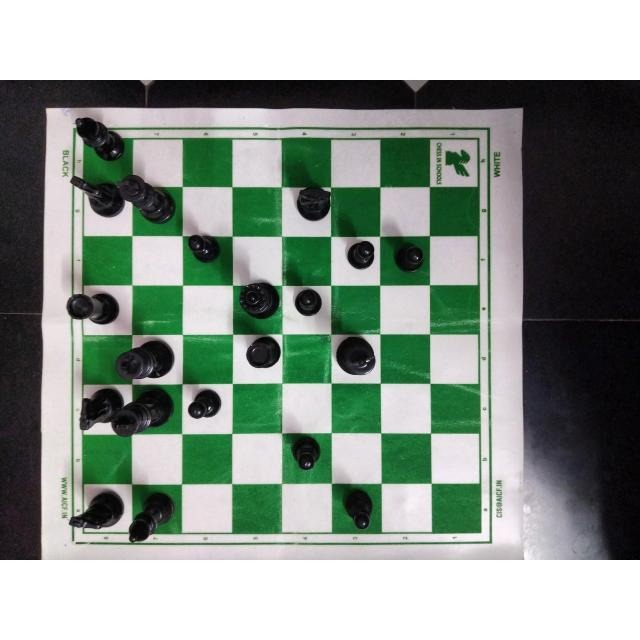black-bishop: (71, 113, 127, 163), (126, 492, 176, 548)
black-king: (116, 174, 180, 228), (112, 386, 176, 438), (114, 336, 178, 383), (332, 336, 380, 377)
black-knight: (64, 488, 128, 536), (70, 170, 126, 217), (77, 386, 123, 437), (286, 181, 336, 223)
black-pawn: (337, 485, 376, 534), (183, 383, 227, 425), (390, 237, 434, 279), (284, 432, 326, 474), (338, 236, 379, 276), (288, 285, 325, 319), (185, 230, 219, 264)
black-queen: (230, 277, 284, 325)
black-rook: (63, 287, 125, 327), (242, 333, 284, 373)
